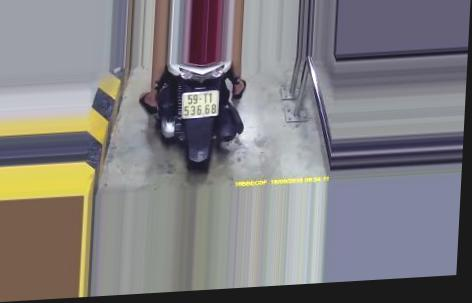License_Plate: (178, 87, 224, 123)
